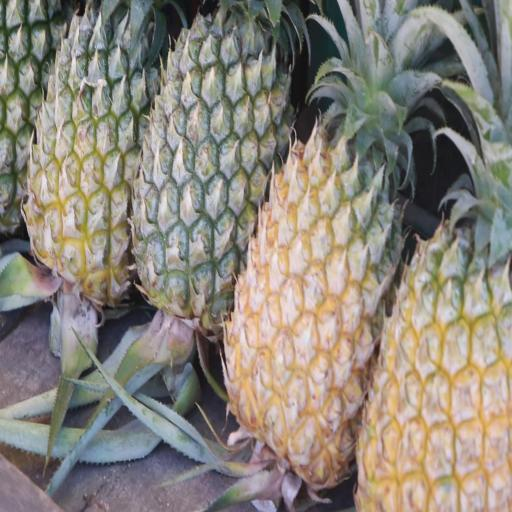------------------------------: (17, 0, 168, 314)
Pineapple - v8 v1: (218, 0, 408, 495), (352, 158, 511, 508)
